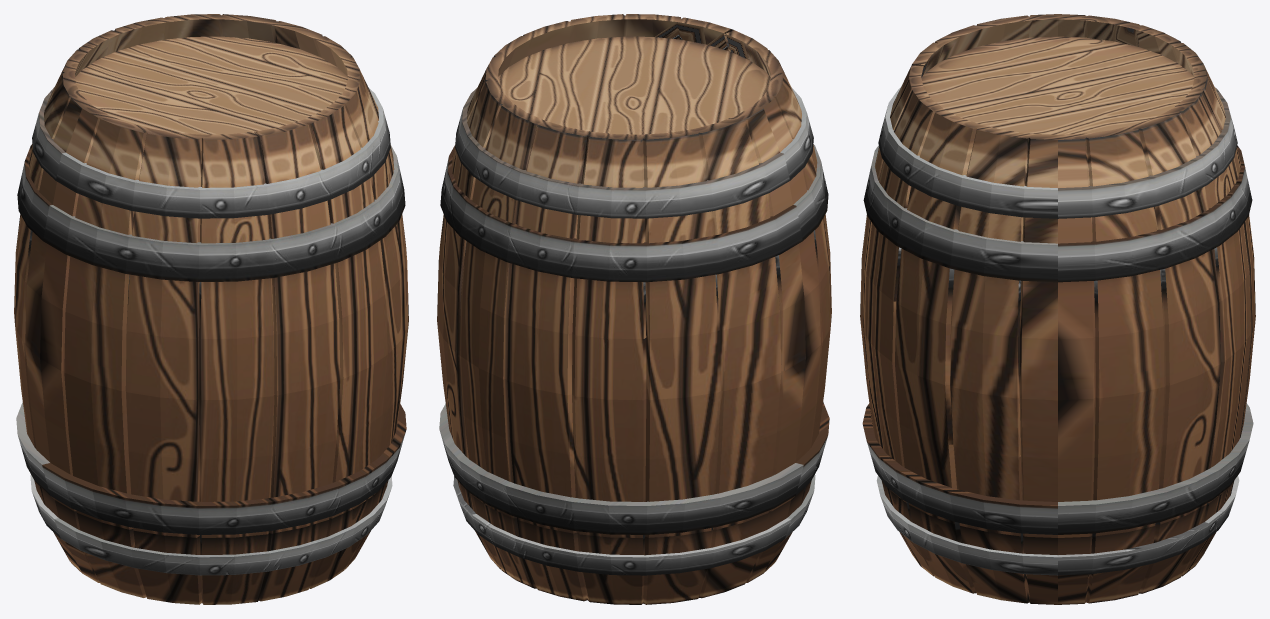
The model's file is barril 1.fbx.
3 views of the same model, side by side, from view 1: azimuth 30°, elevation 25°; view 2: azimuth 150°, elevation 25°; view 3: azimuth 270°, elevation 25° (orthographic).
Parts seen in each view (by area): view 1: Circle; view 2: Circle; view 3: Circle.
Part boxes in pixels (x1,y1,x2,y2): Circle: [14, 14, 408, 604]; Circle: [437, 14, 831, 604]; Circle: [860, 14, 1255, 604].
Bounding box in the file's own units: 171 × 221 × 171.
